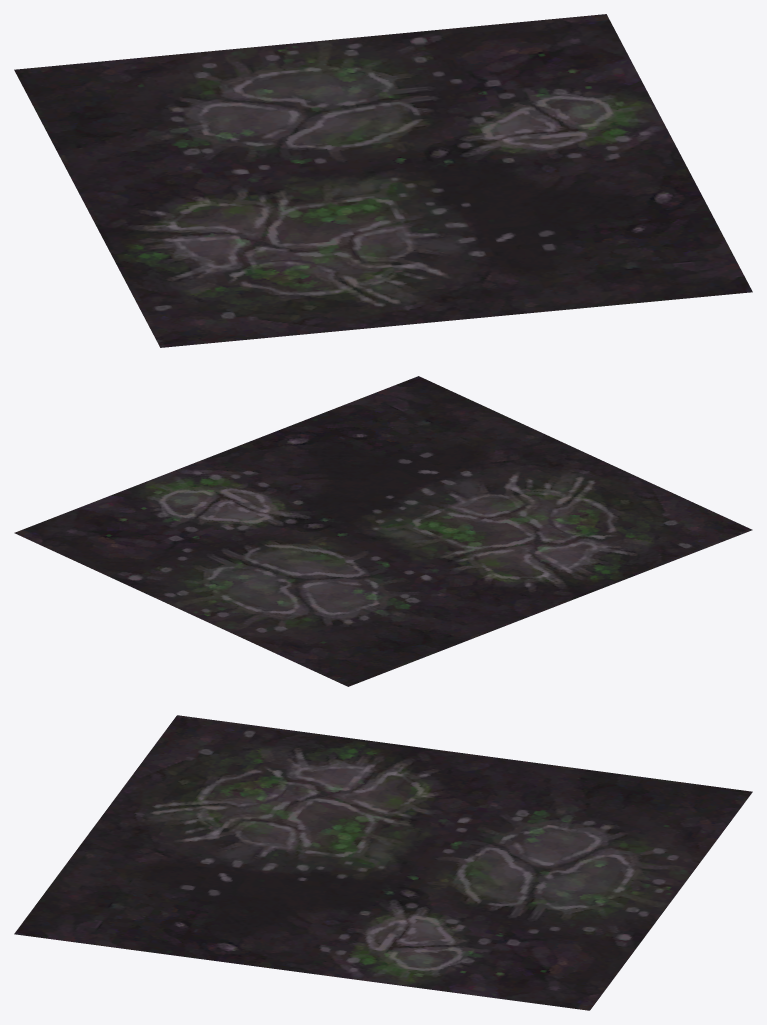
File: cave_floor_mushrooms_04.fbx
3 renders of one model, top to bottom at view 1: azimuth 30°, elevation 25°; view 2: azimuth 150°, elevation 25°; view 3: azimuth 270°, elevation 25°, orthographic. The views are drawn at different scales.
Visible parts, largest first — view 1: cave_tileset/Floormushrooms_01_mat; view 2: cave_tileset/Floormushrooms_01_mat; view 3: cave_tileset/Floormushrooms_01_mat.
Part boxes in pixels (x1,y1,x2,y2): cave_tileset/Floormushrooms_01_mat: (14, 14, 752, 347); cave_tileset/Floormushrooms_01_mat: (14, 376, 752, 686); cave_tileset/Floormushrooms_01_mat: (14, 715, 752, 1010).
Size of the model in its own units: 2.7 by 0 by 2.85.
